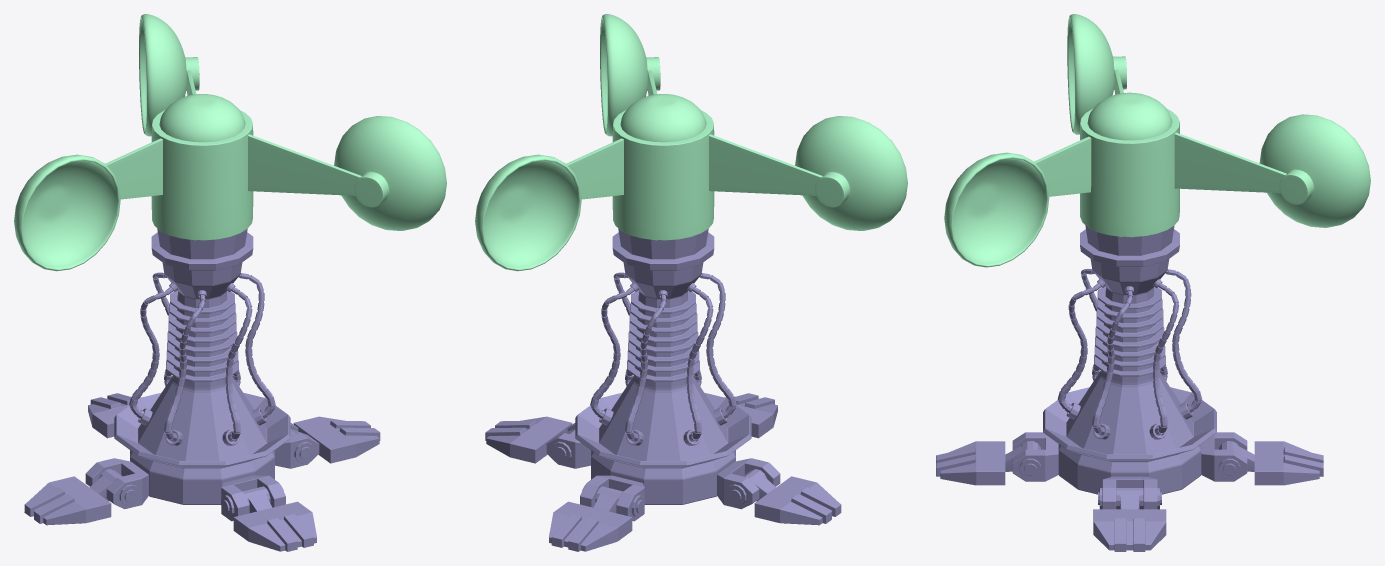
The model's file is TurbineFull.fbx.
3 renders of one model, left to right at view 1: azimuth 30°, elevation 25°; view 2: azimuth 150°, elevation 25°; view 3: azimuth 270°, elevation 25°, orthographic.
Parts seen in each view (by area): view 1: MainBody, TurbineCup03, TurbineCup02, TurbineBody, TurbineCup01, TurbineArm03, TopLight, Toe, Toe3, Toe1, TurbineArm02, Frame3 (+9 smaller); view 2: MainBody, TurbineCup02, TurbineCup01, TurbineBody, TurbineCup03, TurbineArm02, TopLight, Toe2, Toe3, Toe1, TurbineArm01, Frame3 (+9 smaller); view 3: MainBody, TurbineCup01, TurbineCup03, TurbineBody, TurbineCup02, TurbineArm01, TopLight, Toe1, Toe, Toe2, TurbineArm03, Frame (+9 smaller).
Boxes of the visible parts, x1=… form: MainBody: x1=114, y1=228, x2=290, y2=504; TurbineCup03: x1=334, y1=116, x2=446, y2=230; TurbineCup02: x1=14, y1=154, x2=120, y2=271; TurbineBody: x1=151, y1=110, x2=253, y2=240; TurbineCup01: x1=139, y1=14, x2=199, y2=136; TurbineArm03: x1=248, y1=134, x2=361, y2=195; TopLight: x1=159, y1=94, x2=245, y2=142; Toe: x1=233, y1=501, x2=316, y2=551; Toe3: x1=24, y1=476, x2=111, y2=525; Toe1: x1=293, y1=416, x2=380, y2=463; TurbineArm02: x1=105, y1=138, x2=162, y2=199; Frame3: x1=85, y1=458, x2=148, y2=509; MainBody: x1=575, y1=228, x2=751, y2=504; TurbineCup02: x1=795, y1=116, x2=907, y2=230; TurbineCup01: x1=475, y1=154, x2=581, y2=271; TurbineBody: x1=612, y1=110, x2=714, y2=240; TurbineCup03: x1=600, y1=14, x2=660, y2=136; TurbineArm02: x1=709, y1=134, x2=822, y2=195; TopLight: x1=620, y1=94, x2=706, y2=142; Toe2: x1=549, y1=501, x2=632, y2=551; Toe3: x1=754, y1=476, x2=841, y2=525; Toe1: x1=485, y1=416, x2=572, y2=463; TurbineArm01: x1=566, y1=138, x2=623, y2=199; Frame3: x1=717, y1=458, x2=780, y2=509; MainBody: x1=1043, y1=225, x2=1216, y2=494; TurbineCup01: x1=1259, y1=114, x2=1370, y2=227; TurbineCup03: x1=944, y1=152, x2=1049, y2=267; TurbineBody: x1=1080, y1=108, x2=1179, y2=237; TurbineCup02: x1=1067, y1=14, x2=1126, y2=134; TurbineArm01: x1=1174, y1=132, x2=1286, y2=193; TopLight: x1=1087, y1=92, x2=1172, y2=140; Toe1: x1=1093, y1=509, x2=1166, y2=551; Toe: x1=936, y1=441, x2=1005, y2=485; Toe2: x1=1254, y1=441, x2=1323, y2=485; TurbineArm03: x1=1034, y1=136, x2=1091, y2=196; Frame: x1=1012, y1=432, x2=1058, y2=481.
Size of the model in its own units: 23.28 by 21.9 by 23.12.
